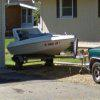Boat: (8, 19, 80, 77)
